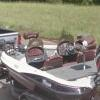Boat: (3, 43, 89, 97)
